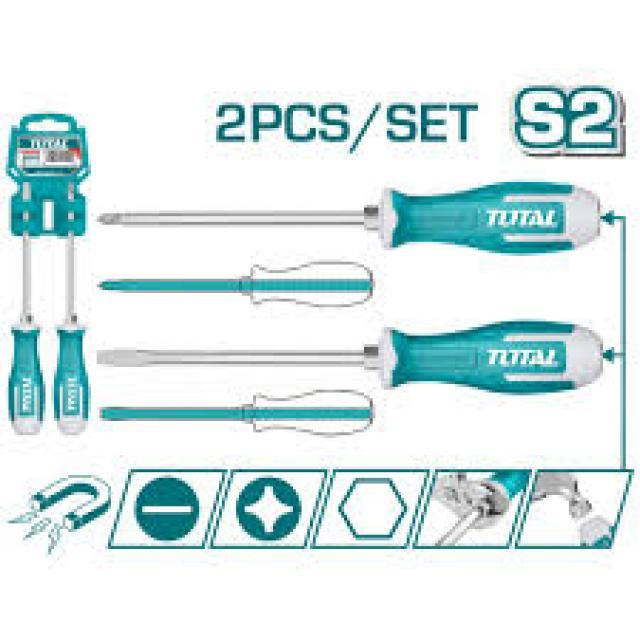screwdriver: (94, 322, 612, 398), (91, 182, 609, 256), (48, 181, 94, 442), (4, 176, 47, 441)
